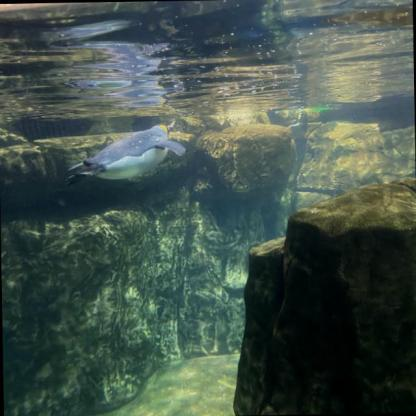penguin: (67, 118, 195, 186)
